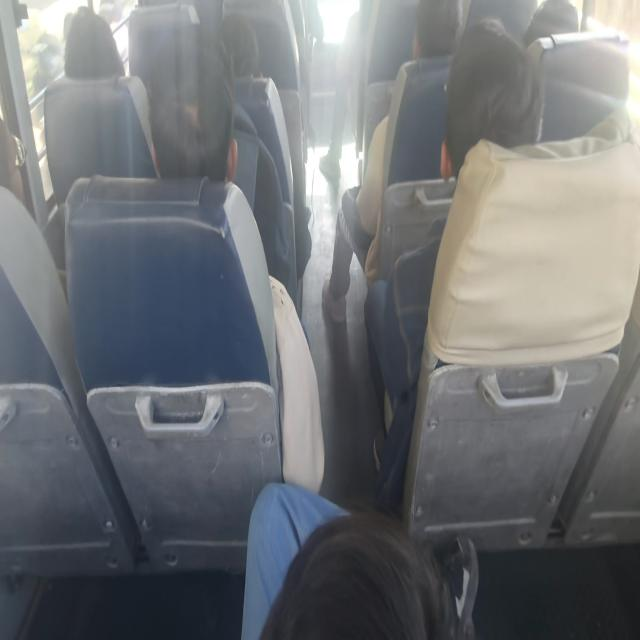person: (363, 17, 545, 501), (146, 25, 325, 492), (320, 0, 462, 322), (241, 481, 478, 638), (43, 5, 157, 204), (440, 17, 544, 181), (319, 8, 362, 180), (62, 5, 126, 79)
